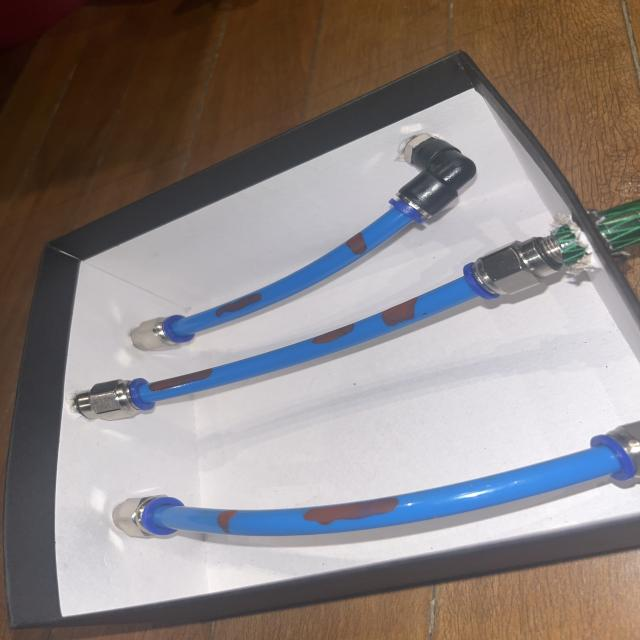hose_damage: (301, 496, 402, 528), (146, 367, 215, 393), (213, 290, 268, 320), (380, 296, 418, 327), (311, 322, 356, 345), (213, 508, 241, 535), (343, 230, 369, 258)
